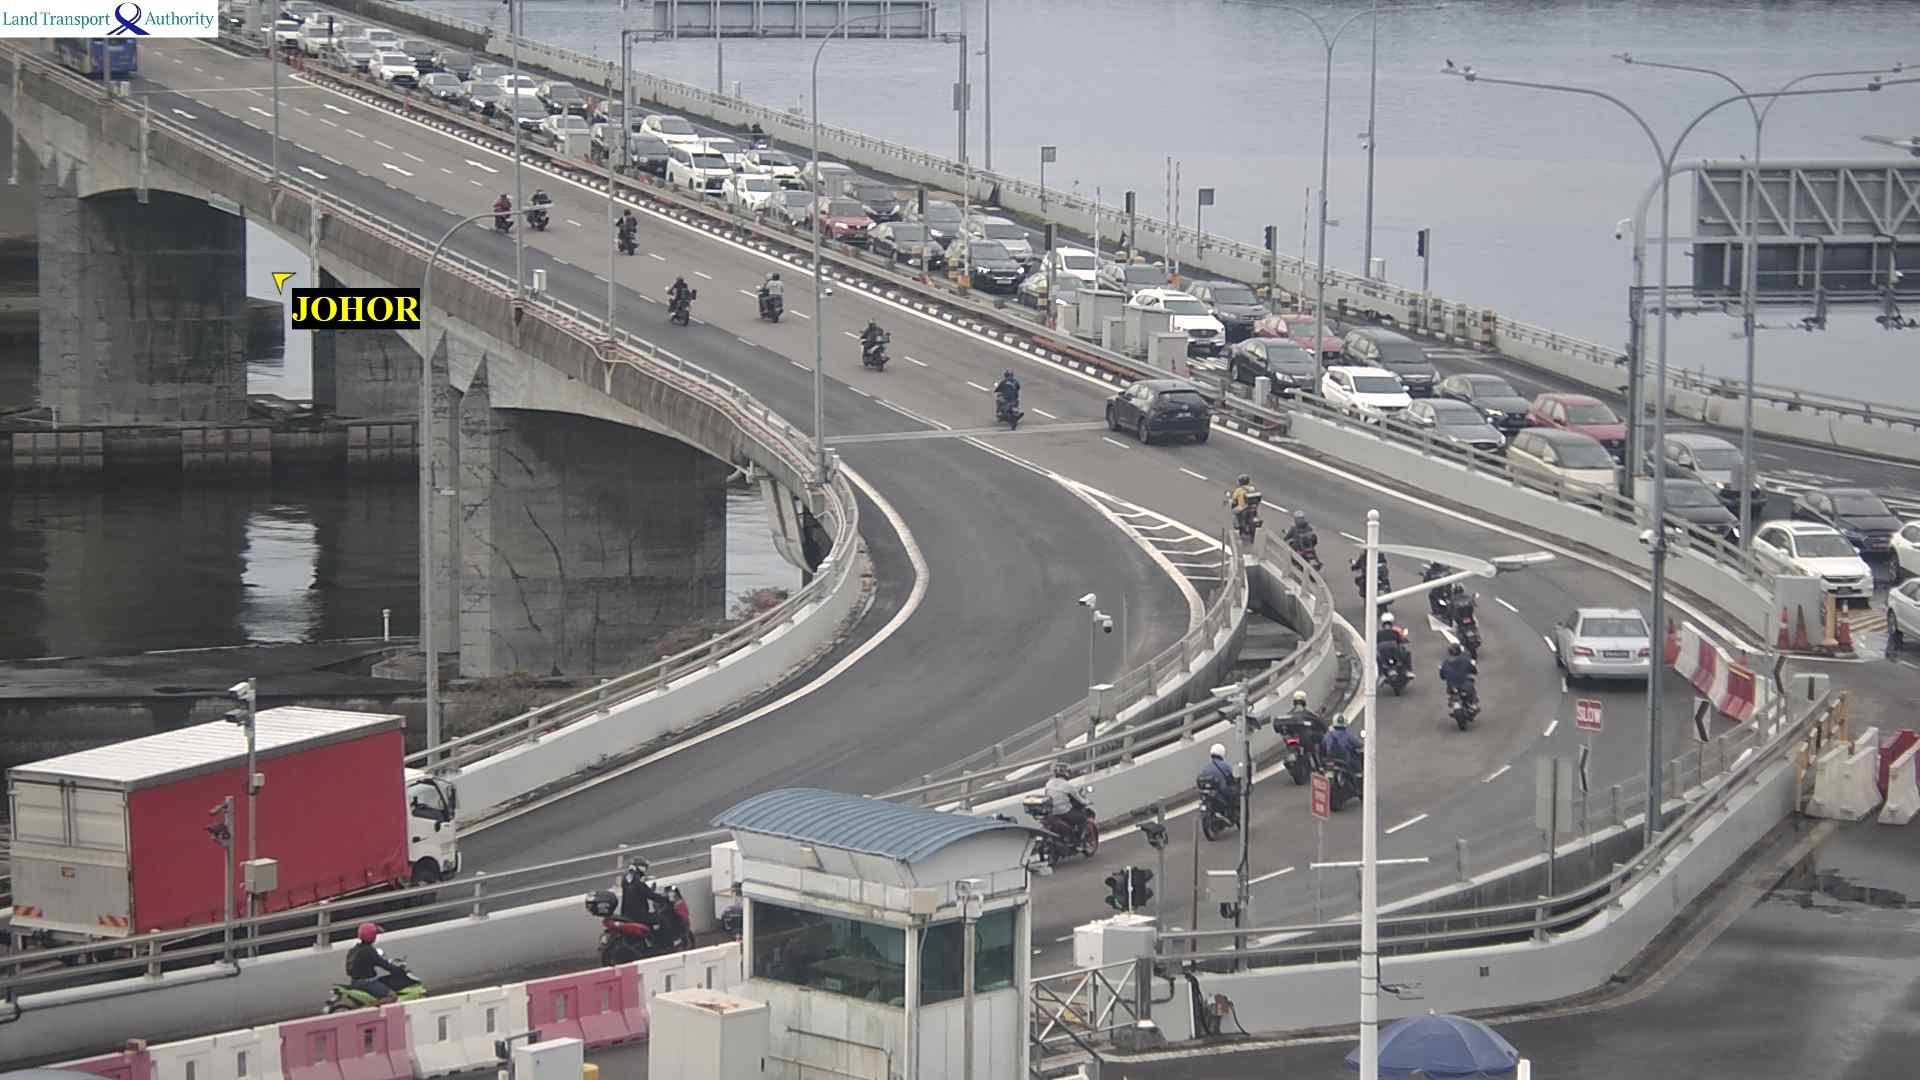vehicle-secondlink-johor: (19, 708, 460, 955), (1549, 607, 1664, 689), (1006, 787, 1115, 868), (1103, 378, 1211, 442), (38, 39, 137, 74), (1203, 744, 1237, 838), (1372, 623, 1415, 694), (1325, 709, 1360, 794), (981, 374, 1032, 430), (1426, 580, 1473, 638), (1232, 466, 1269, 533), (849, 325, 894, 373), (1441, 643, 1469, 719), (1289, 512, 1321, 577), (1288, 689, 1310, 770), (614, 213, 645, 256), (755, 267, 782, 316), (666, 272, 691, 319), (533, 190, 552, 227), (495, 192, 508, 231)
vehicle-secondlink-singapore: (1530, 393, 1629, 463), (1635, 434, 1757, 488), (1345, 327, 1439, 397), (1223, 338, 1324, 390), (1518, 433, 1629, 476), (1439, 376, 1537, 424), (1188, 281, 1271, 336), (1141, 303, 1236, 350), (1799, 511, 1913, 550), (1314, 373, 1418, 414), (1256, 314, 1342, 363), (1792, 559, 1909, 595), (1407, 397, 1512, 436), (964, 213, 1030, 268), (655, 146, 733, 189), (1100, 259, 1171, 305), (864, 227, 944, 267), (943, 244, 1022, 284), (1765, 522, 1857, 556), (805, 200, 875, 242), (1016, 270, 1089, 308), (1042, 247, 1107, 289), (906, 199, 961, 241), (848, 181, 900, 222), (724, 174, 775, 211), (745, 148, 798, 183), (536, 81, 588, 115), (630, 135, 669, 179), (762, 193, 815, 220), (590, 100, 642, 127), (699, 137, 743, 168), (297, 24, 336, 55), (369, 54, 419, 78), (497, 99, 548, 122), (641, 119, 695, 140), (541, 116, 589, 139), (399, 38, 436, 67), (456, 85, 507, 106), (338, 39, 374, 67), (361, 28, 399, 54), (497, 73, 538, 97), (436, 51, 470, 76), (419, 75, 463, 93), (469, 63, 507, 83), (273, 20, 298, 45), (587, 125, 608, 151)
